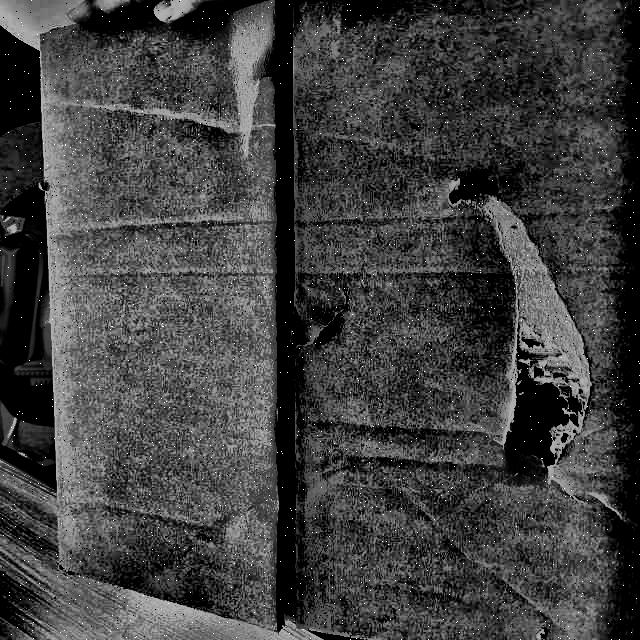box: (25, 0, 640, 637)
hole: (501, 380, 580, 472)
